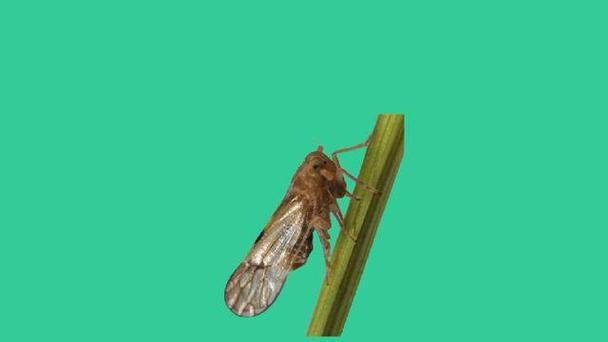Delphacidae: (223, 134, 385, 318)
